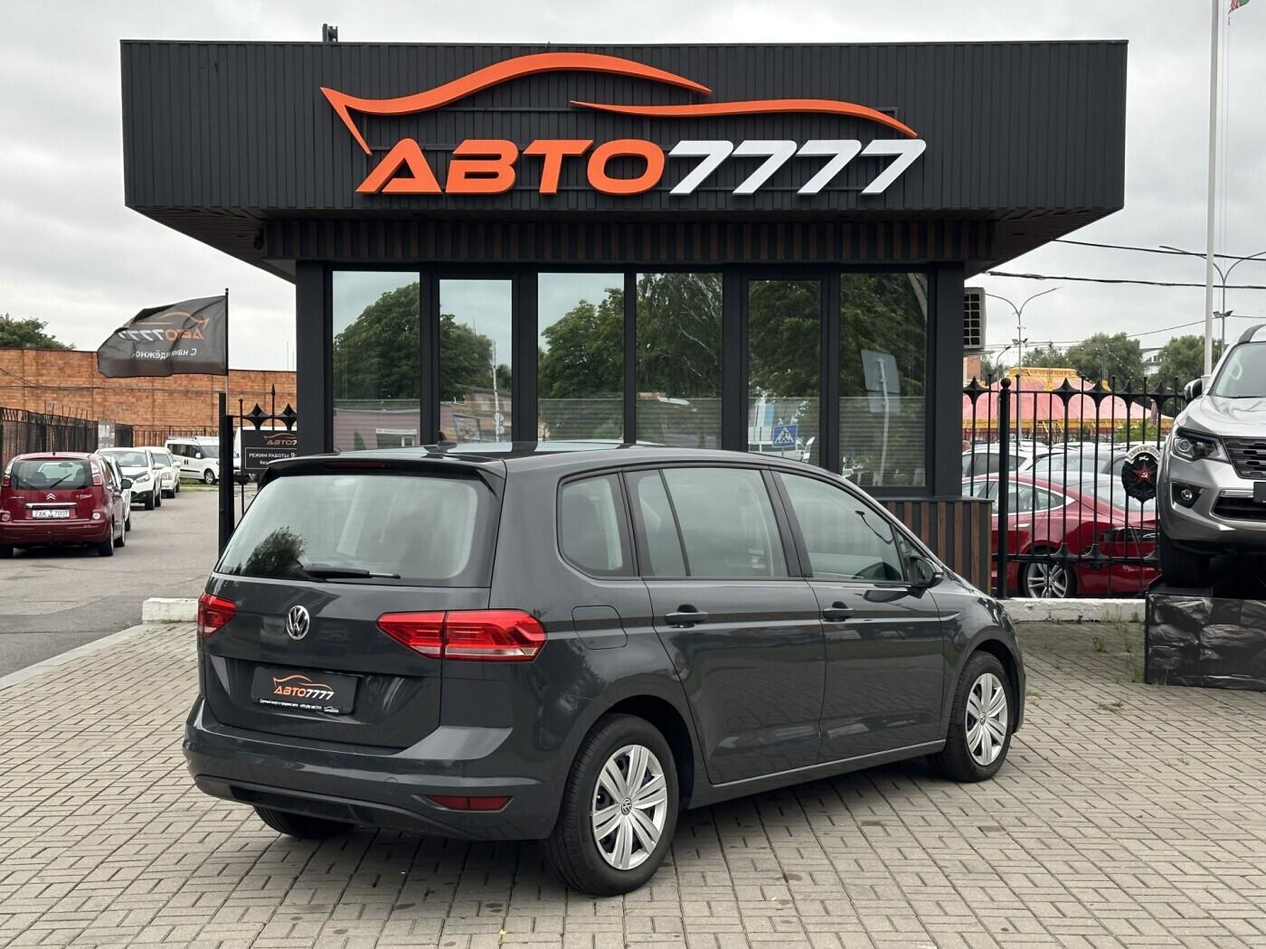Touran_2015: (177, 435, 1027, 893)
